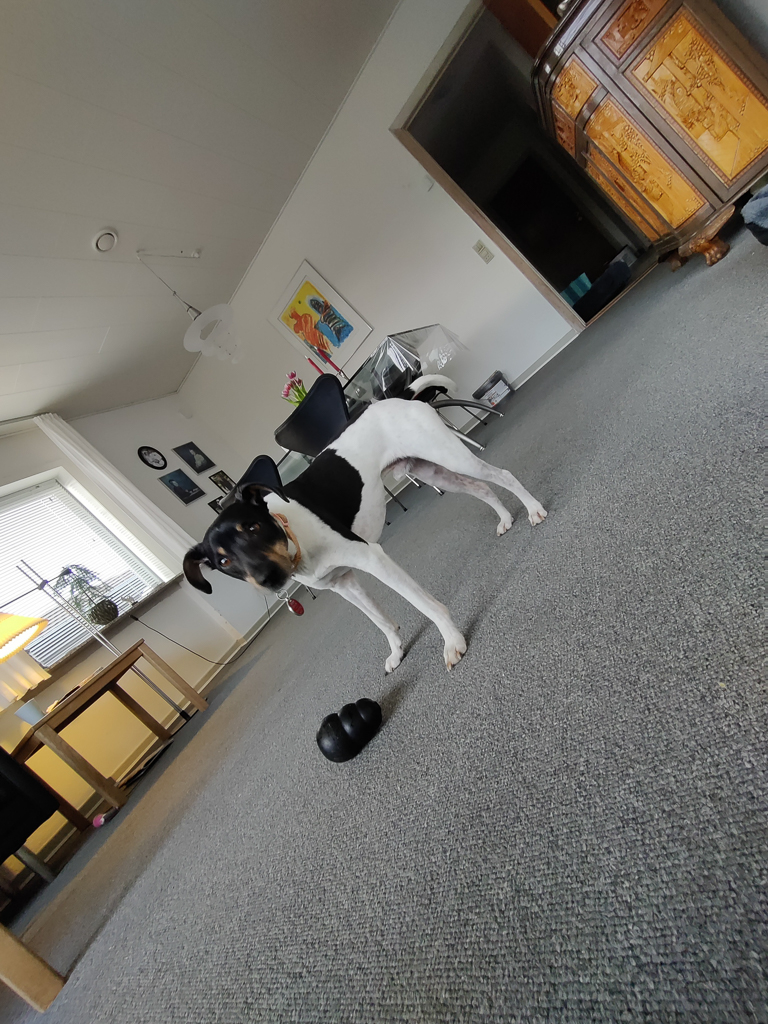Dog: (171, 365, 568, 685)
